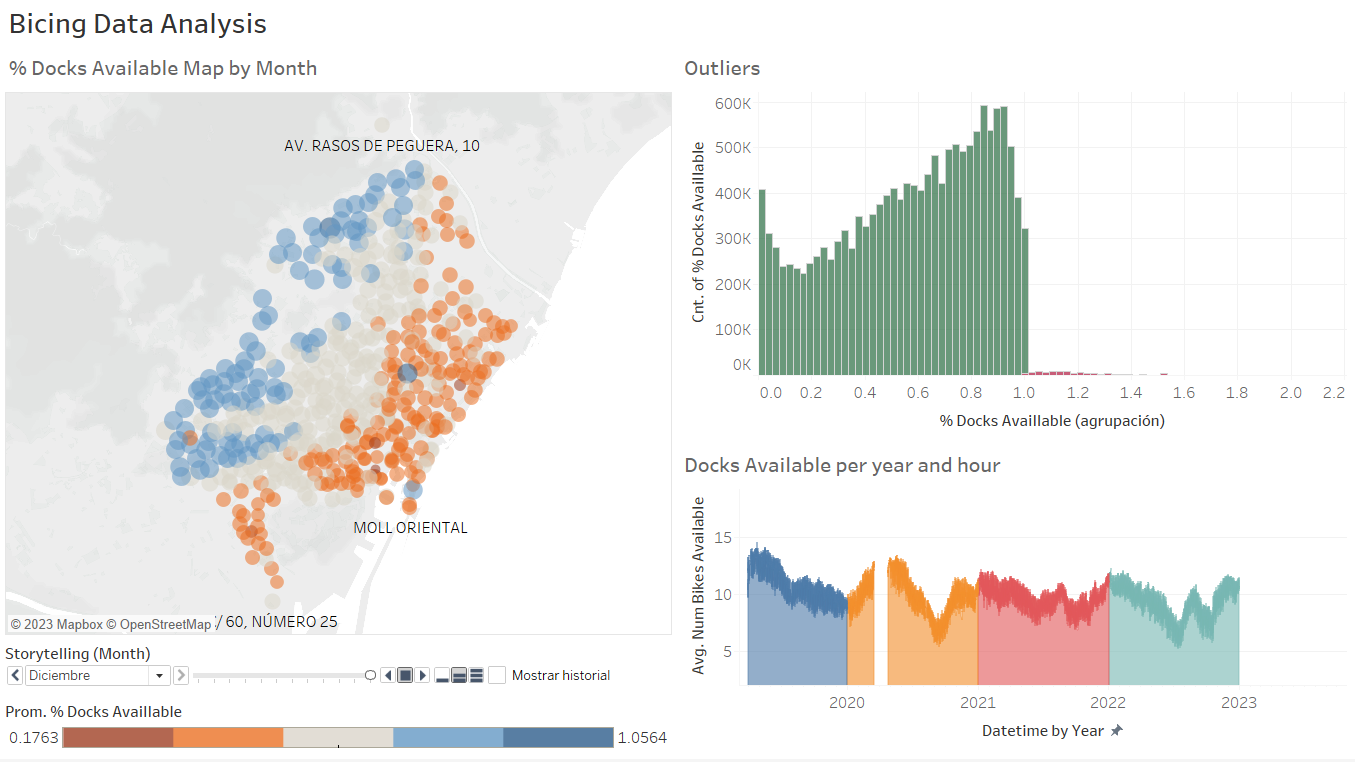

This screenshot's page, from the dashboard's own definition file:
{"tool":"tableau","page":{"name":"Bicing Data Analysis","canvas":[1366,768],"ordinal":0},"visuals":[{"type":"title","box":[8,8,1350,45]},{"type":"worksheet","title":"% Docks Available map per Month","mark":"Automatic","rows":["lat"],"cols":["lon"],"box":[8,53,675,594]},{"type":"worksheet","title":"% Docks Available Histogram","mark":"Automatic","rows":["% Docks Availlable"],"cols":["% Docks Availlable (agrupación)"],"box":[683,53,675,397.2]},{"type":"worksheet","title":"Docks available per Hour","mark":"Area","rows":["num_bikes_available"],"cols":["last_updated_formated"],"box":[683,450.2,675,309.8]},{"type":"currpage","title":"% Docks Available map per Month","box":[8,647,675,58]},{"type":"legend","title":"% Docks Available map per Month","param":"[federated.0hddusm1cnl57i12568z1184uzy5].[avg:% Docks Availlable:qk]","box":[8,705,675,55]}]}

Visuals, with their boxes in screenshot pixels (x1, y1, x2, y2), scaled from the page's 1366x768 canvas onto the 1355x762 screenshot:
title: Rect(8, 8, 1347, 53)
"% Docks Available map per Month" worksheet: Rect(8, 53, 678, 642)
"% Docks Available Histogram" worksheet: Rect(678, 53, 1347, 447)
"Docks available per Hour" worksheet (Area marks): Rect(678, 447, 1347, 754)
"% Docks Available map per Month" currpage: Rect(8, 642, 678, 699)
"% Docks Available map per Month" legend: Rect(8, 699, 678, 754)
